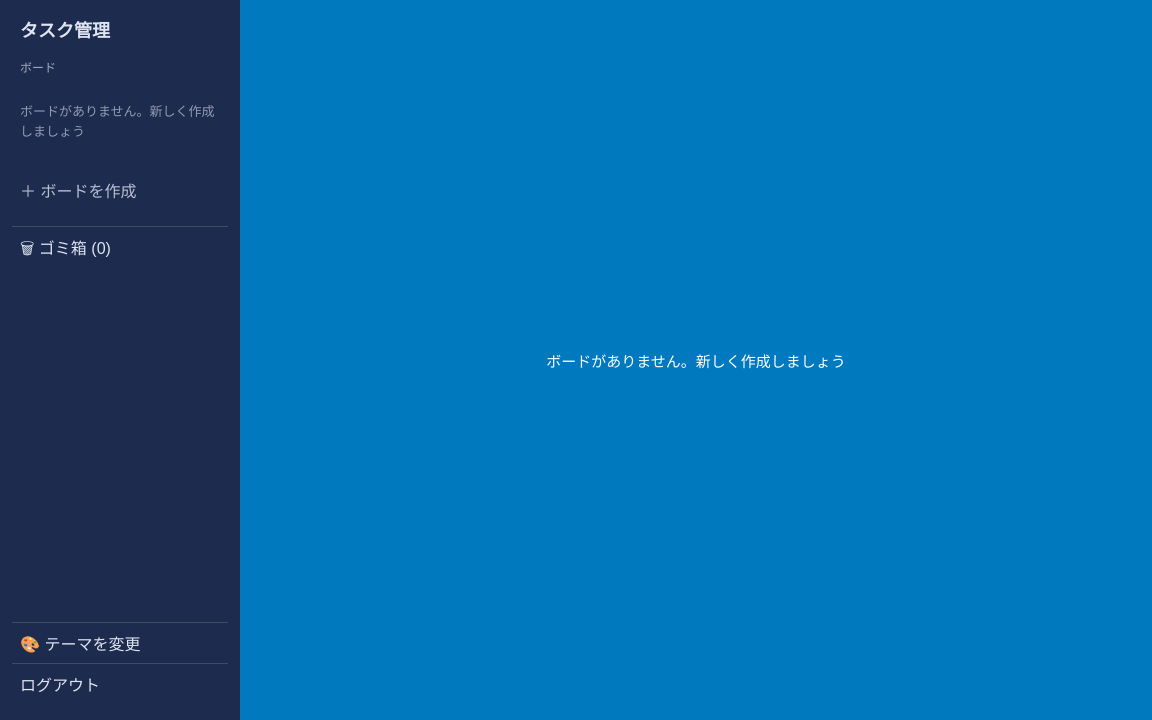
Test: テーマ変更パネル › テンプレートを押すとその場で画面に反映され、変更が無いうちは適用を押せない
Click the button "🎨 テーマを変更" at (120, 642), box [12,622,228,663]
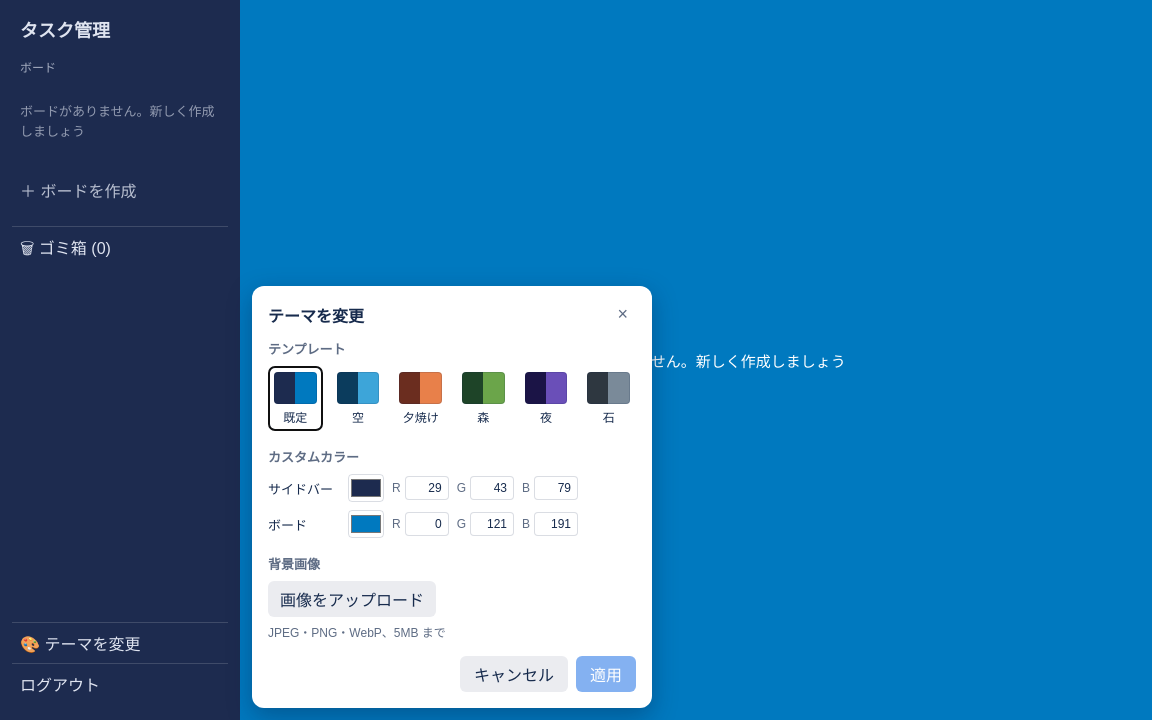
Expected: the button "適用" is disabled, [576,656,636,692]
Click the button "森" at (483, 398), box [456,366,511,431]
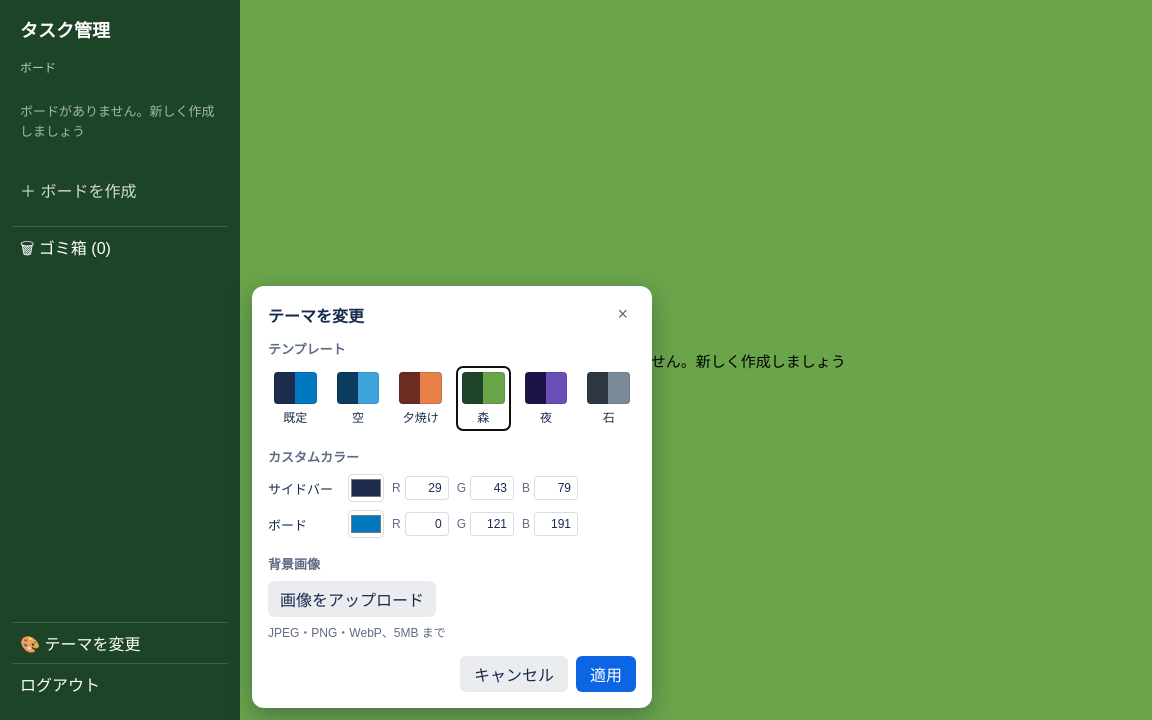
Expected: the button "適用" is enabled, [576,656,636,692]
